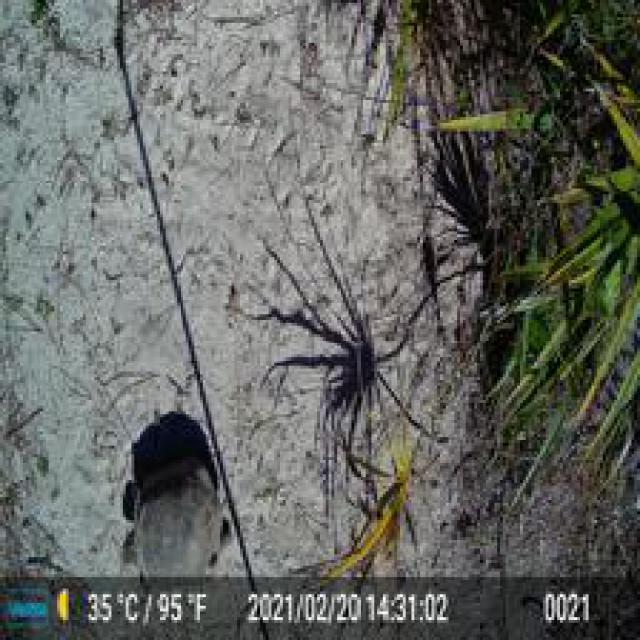tortoise: (114, 454, 229, 586)
